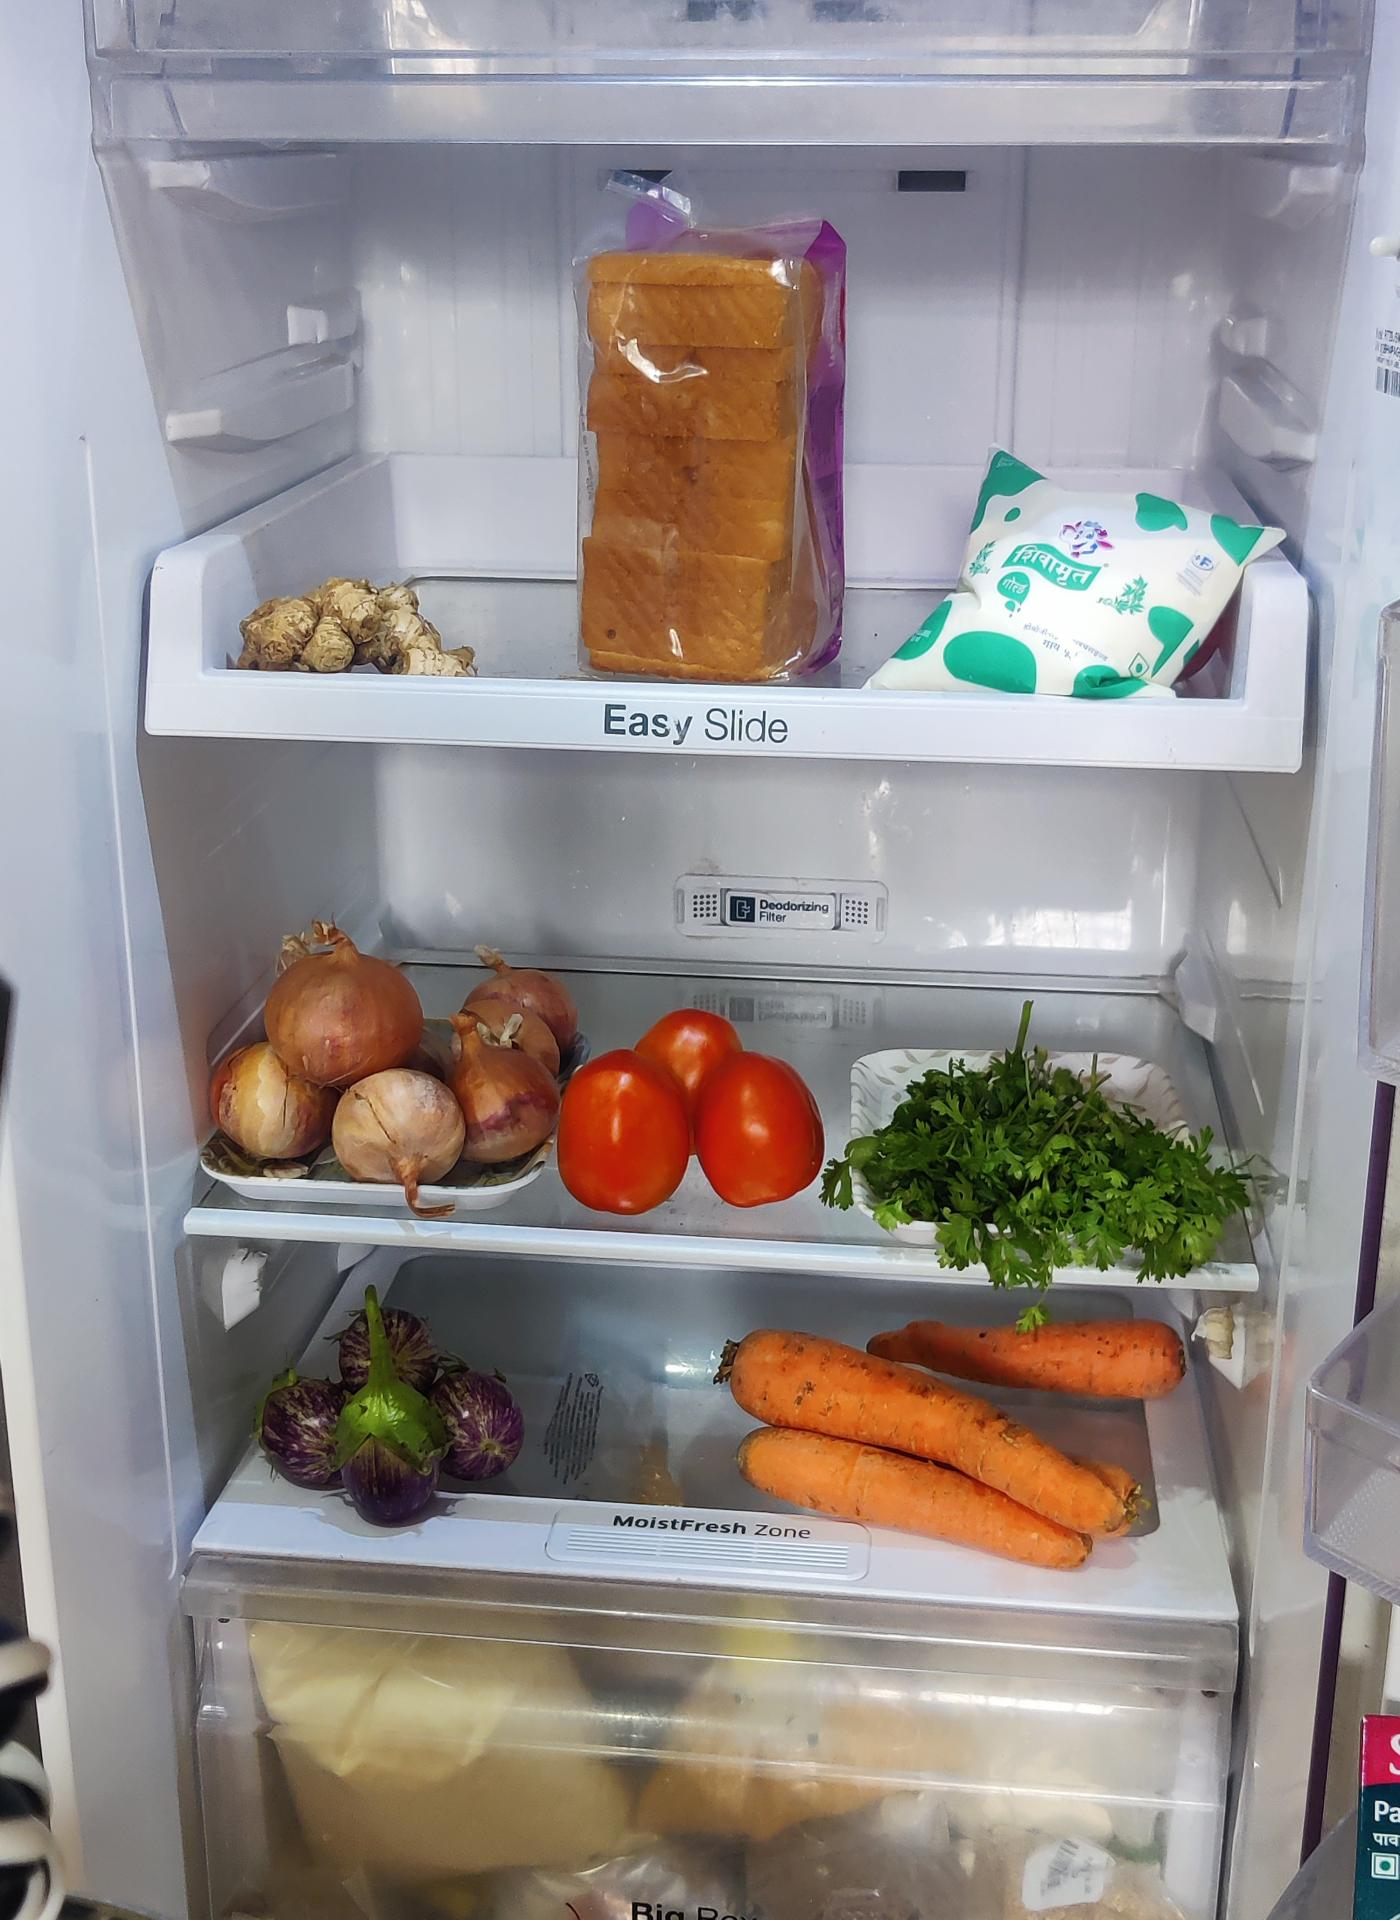bread: (567, 213, 853, 681)
brinjal: (282, 1292, 529, 1520)
carrots: (713, 1327, 1175, 1574)
coriander: (844, 1061, 1260, 1286)
ginger: (231, 575, 477, 683)
milk: (862, 450, 1278, 705)
onion: (212, 923, 584, 1187)
tomato: (558, 1009, 823, 1213)
